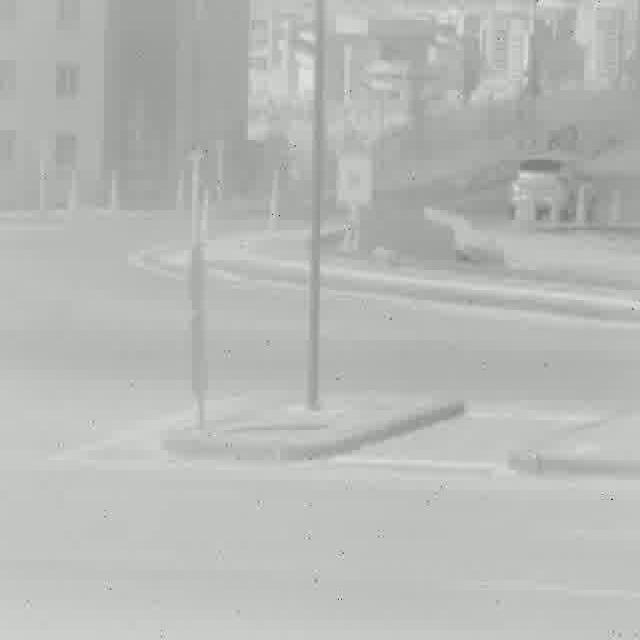Car: (510, 156, 596, 229)
